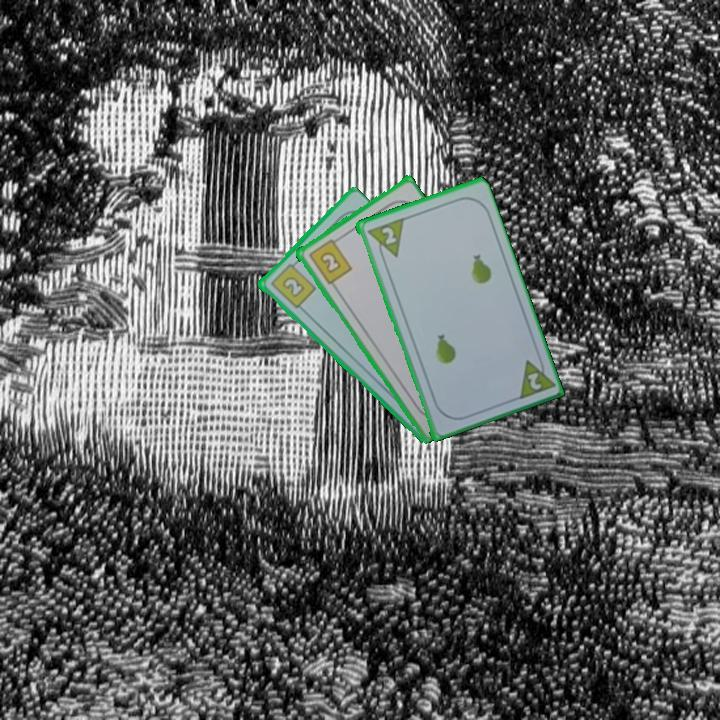2b: (267, 257, 318, 311), (305, 234, 354, 287)
2p: (377, 223, 399, 247), (523, 368, 544, 393)
